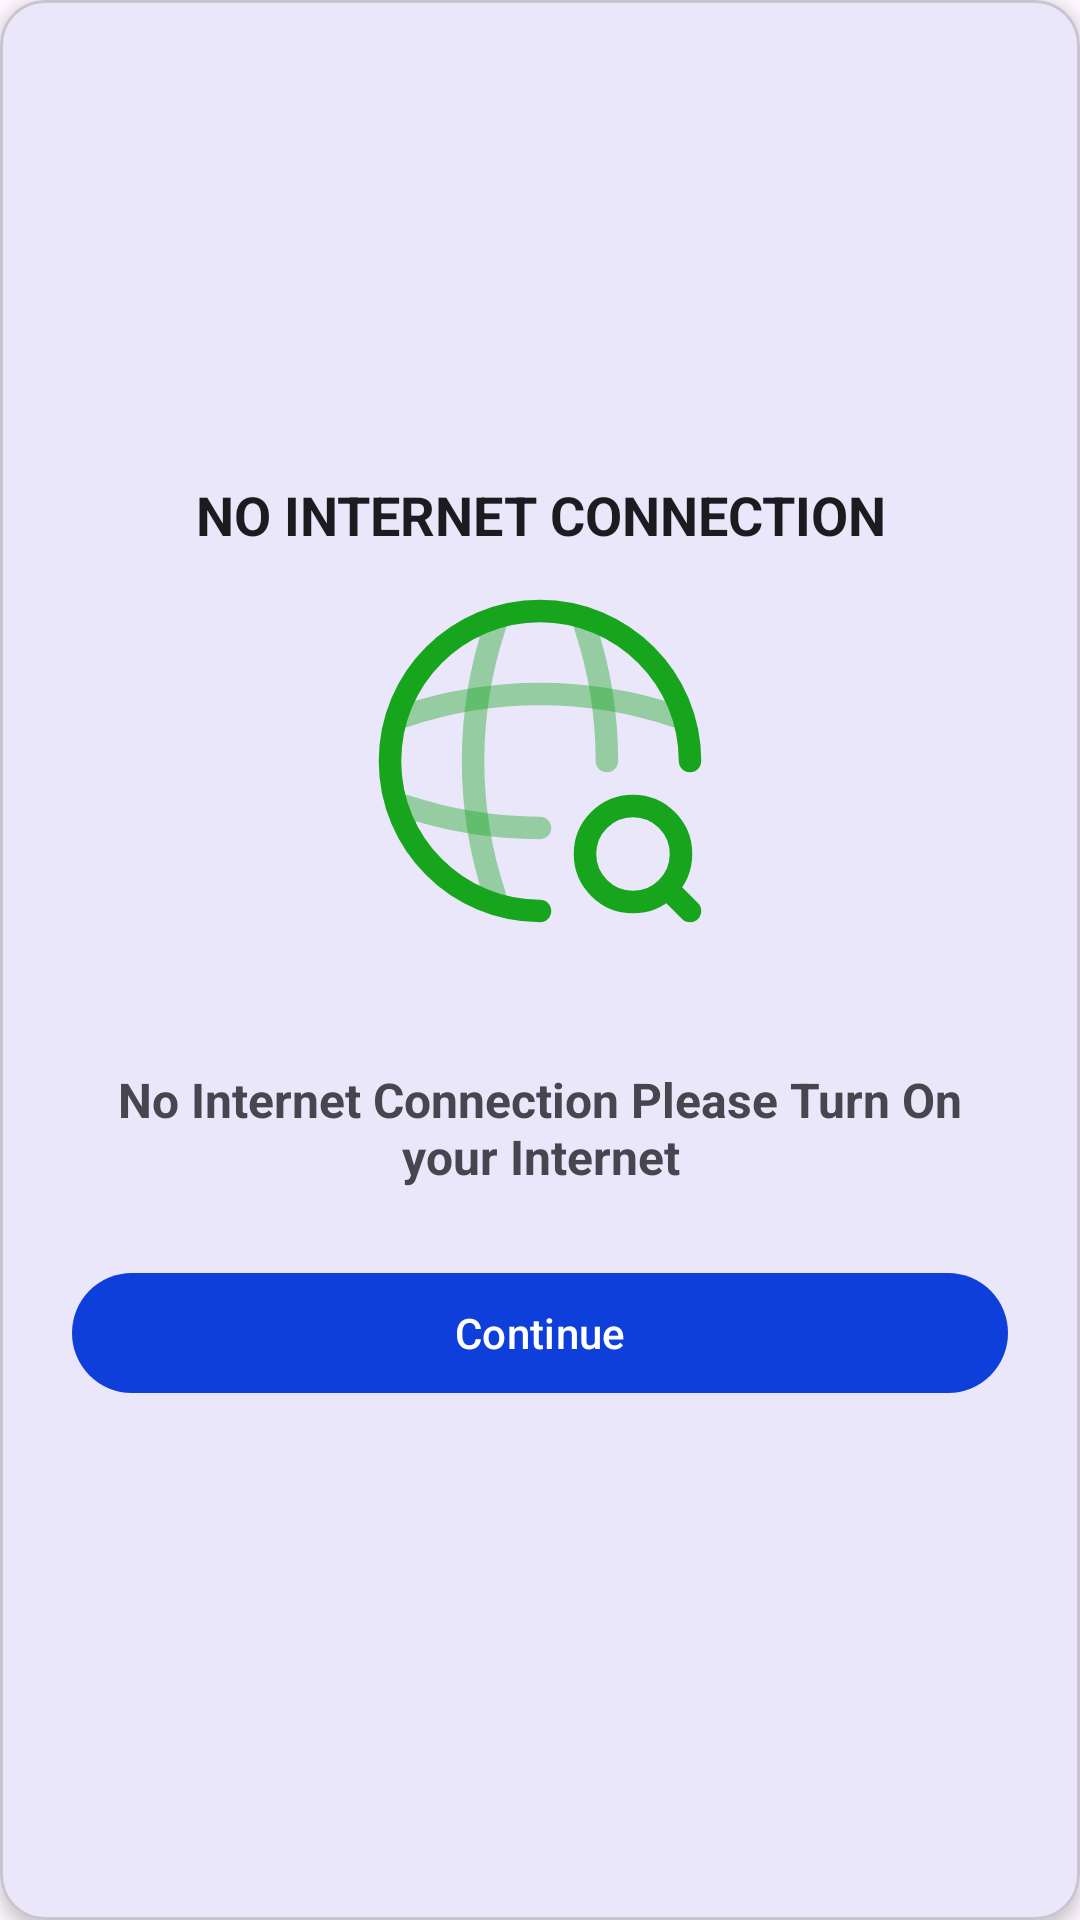

Screen size 1080px×1920px. Icon name, then its center in pixels as point (x, y):
global search: point (540, 761)
